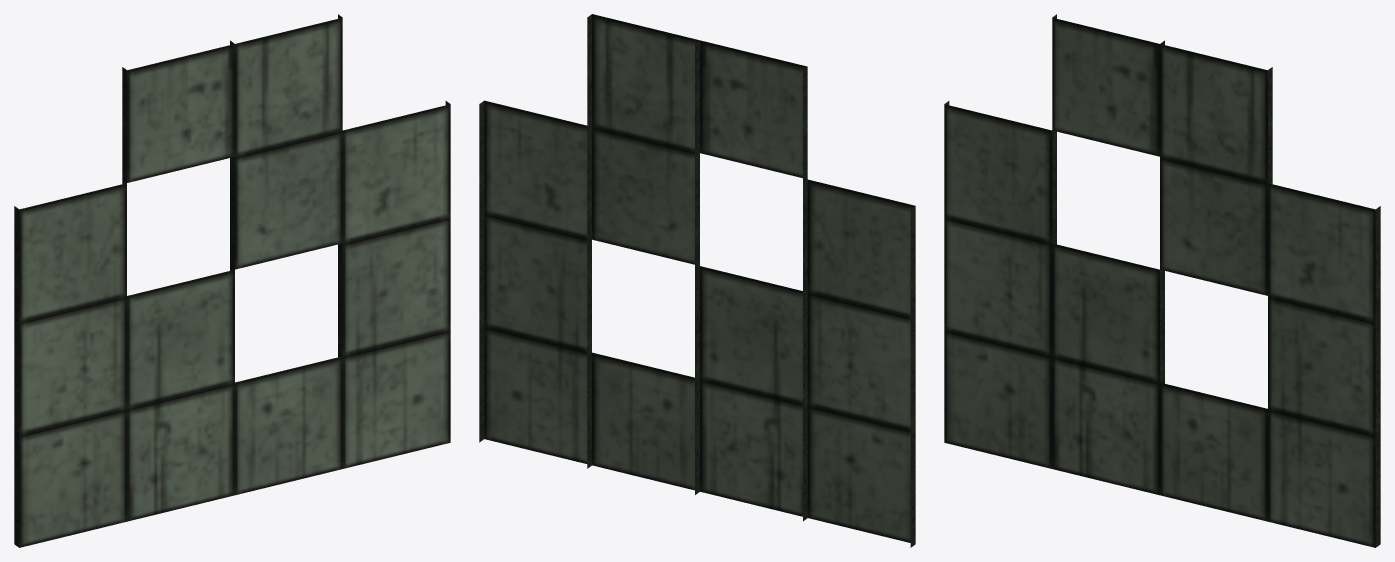
Rendered from SM_Panel_Tile_Broken_1x1.fbx.
3 views of the same model, side by side, from view 1: azimuth 30°, elevation 25°; view 2: azimuth 150°, elevation 25°; view 3: azimuth 330°, elevation 25° (orthographic).
Parts seen in each view (by area): view 1: SM_Panel_Tile_Broken_1x1; view 2: SM_Panel_Tile_Broken_1x1; view 3: SM_Panel_Tile_Broken_1x1.
Part boxes in pixels (left/top/right/bottom): SM_Panel_Tile_Broken_1x1: left=14, top=14, right=450, bottom=547; SM_Panel_Tile_Broken_1x1: left=479, top=14, right=915, bottom=547; SM_Panel_Tile_Broken_1x1: left=944, top=14, right=1380, bottom=547.
Size of the model in its own units: 1 by 1 by 0.02.
